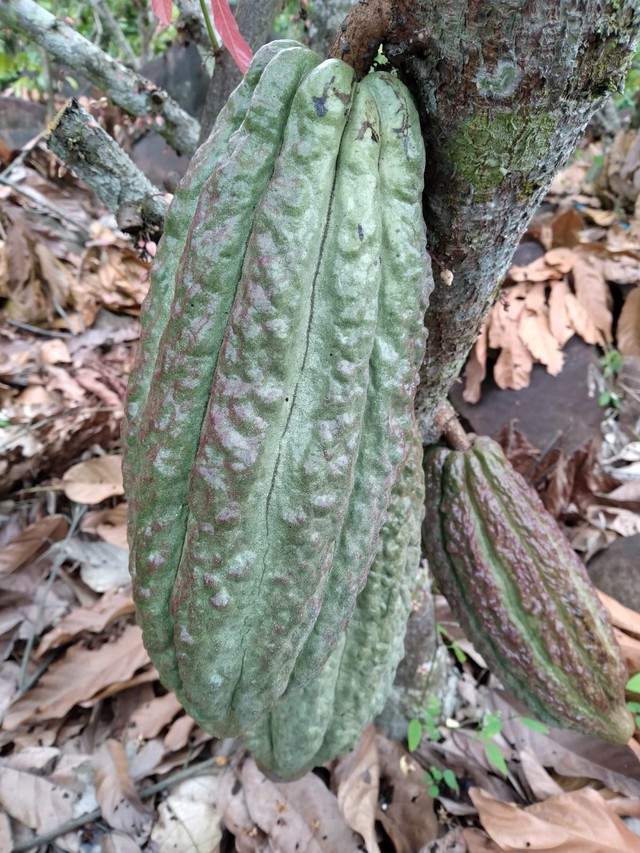Health: (111, 28, 439, 742)
